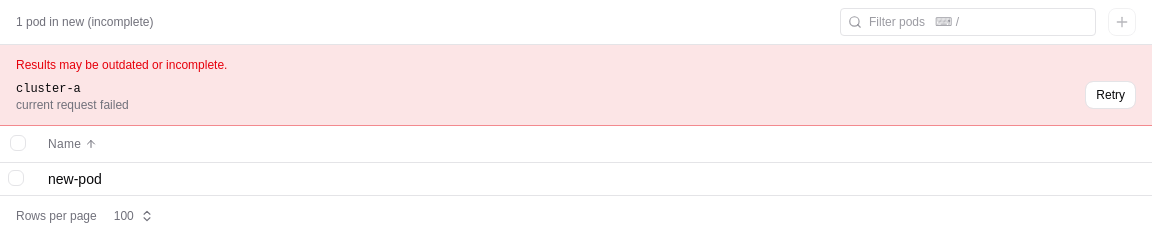
ResourceTable load failures › ignores failures from an old namespace and retries using the current namespace
Click the button with aria-label "Retry loading pods from cluster-a": [1111, 95] box left=1085, top=81, right=1136, bottom=109
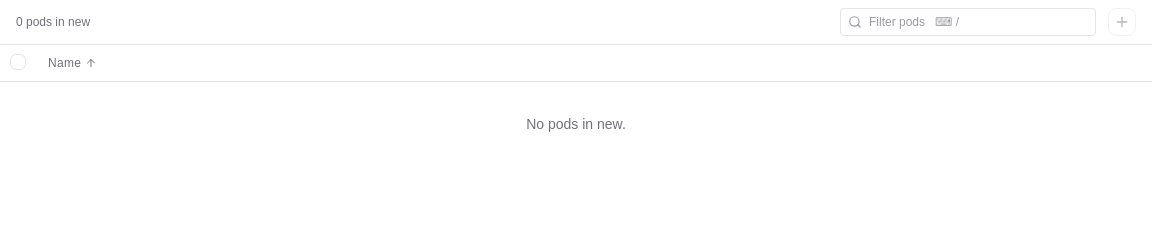
Now the message "Results may be outdated or incomplete. cluster-a current request failed Retry" is gone
